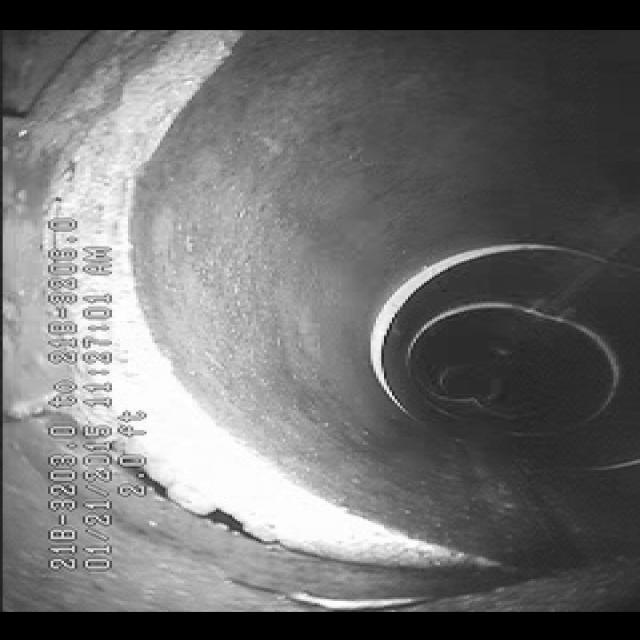Fracture: (165, 486, 415, 572)
